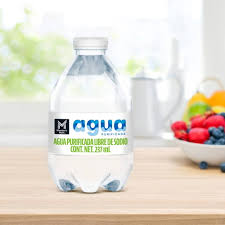Botella: (48, 38, 132, 192)
